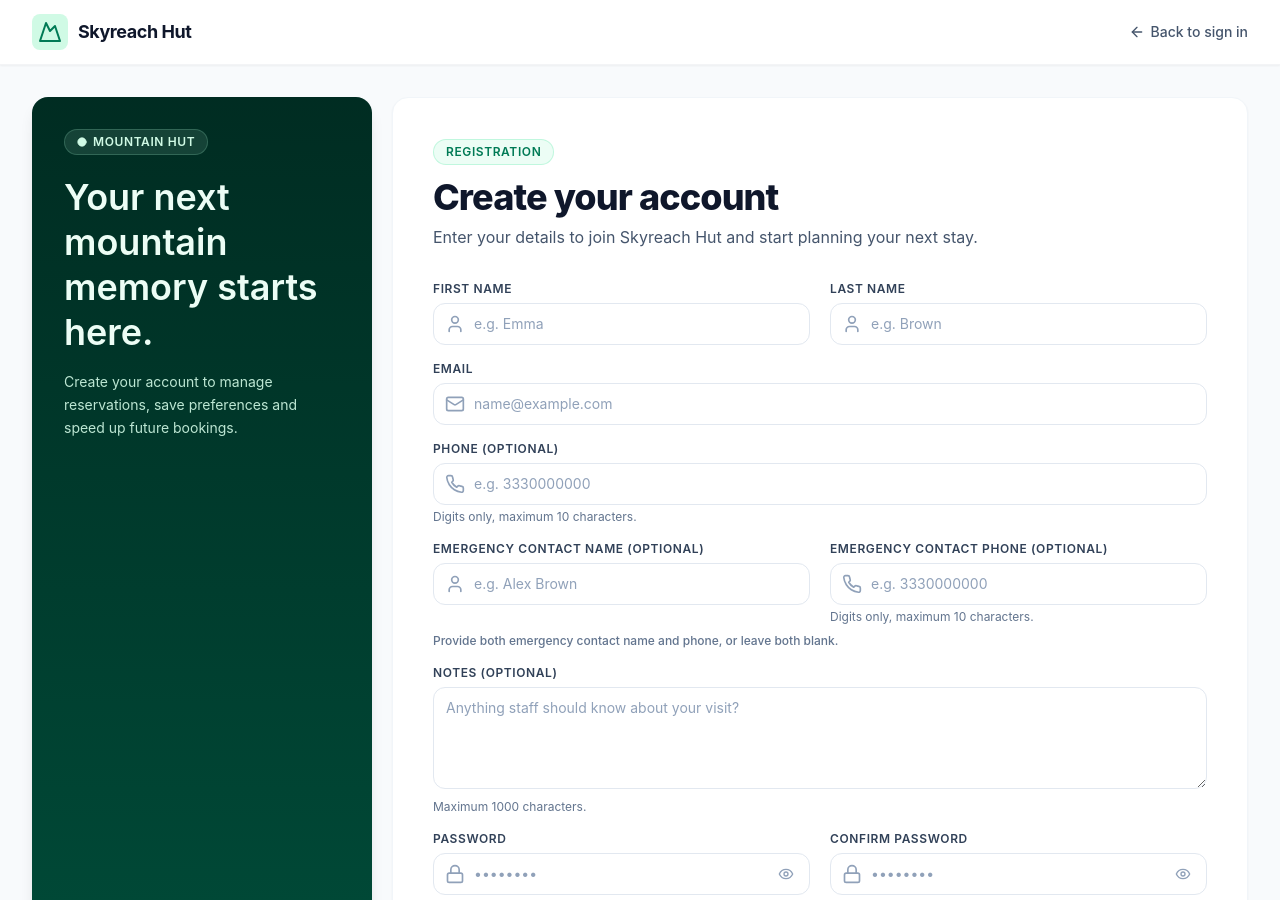
it: RegisterPage › explains that the email is already registered on a 409
Type "Anna" into the field labelled "First name". click: (622, 324)
box: [433,303,810,345]
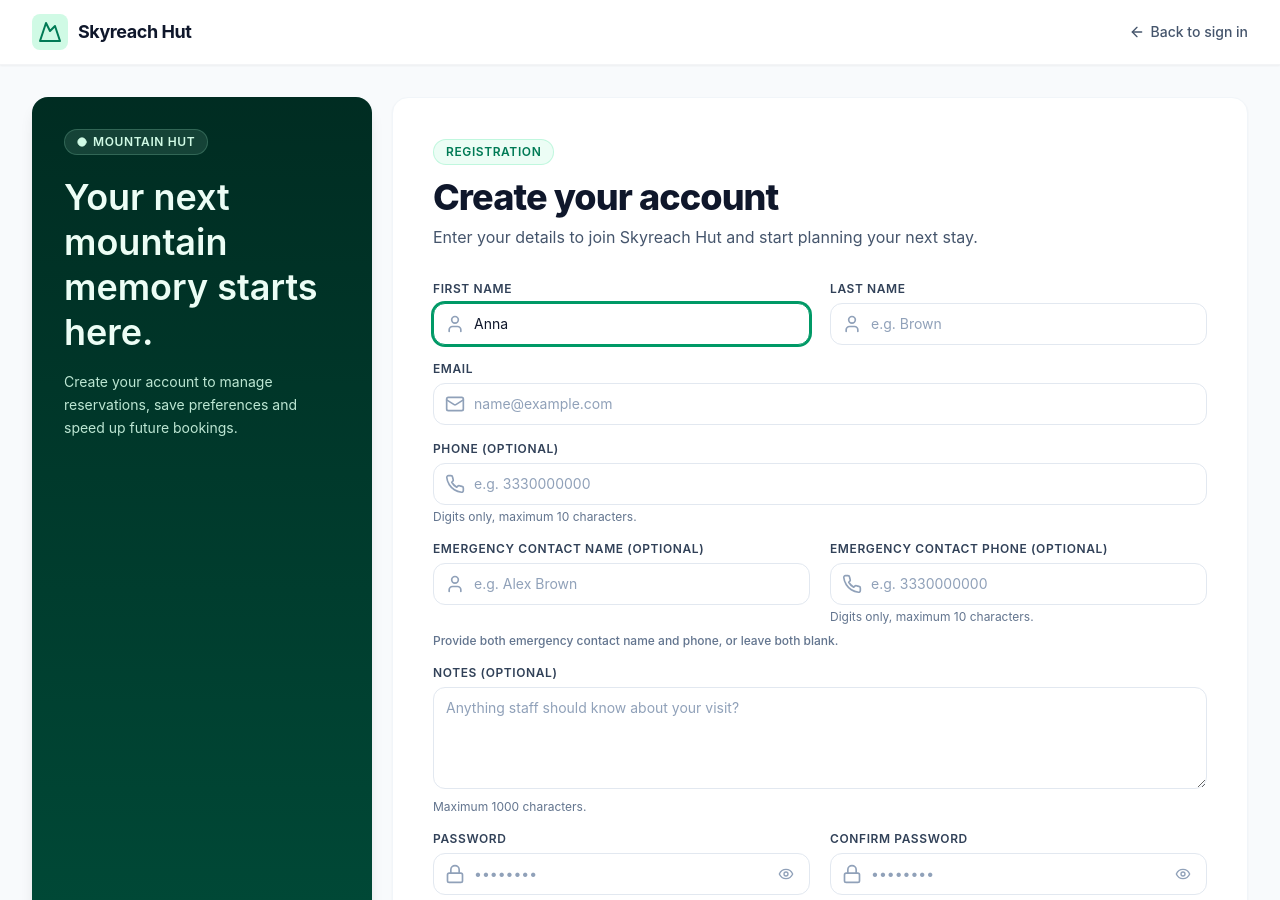
Type "Neri" into the field labelled "Last name". click: (1018, 324)
box: [830,303,1207,345]
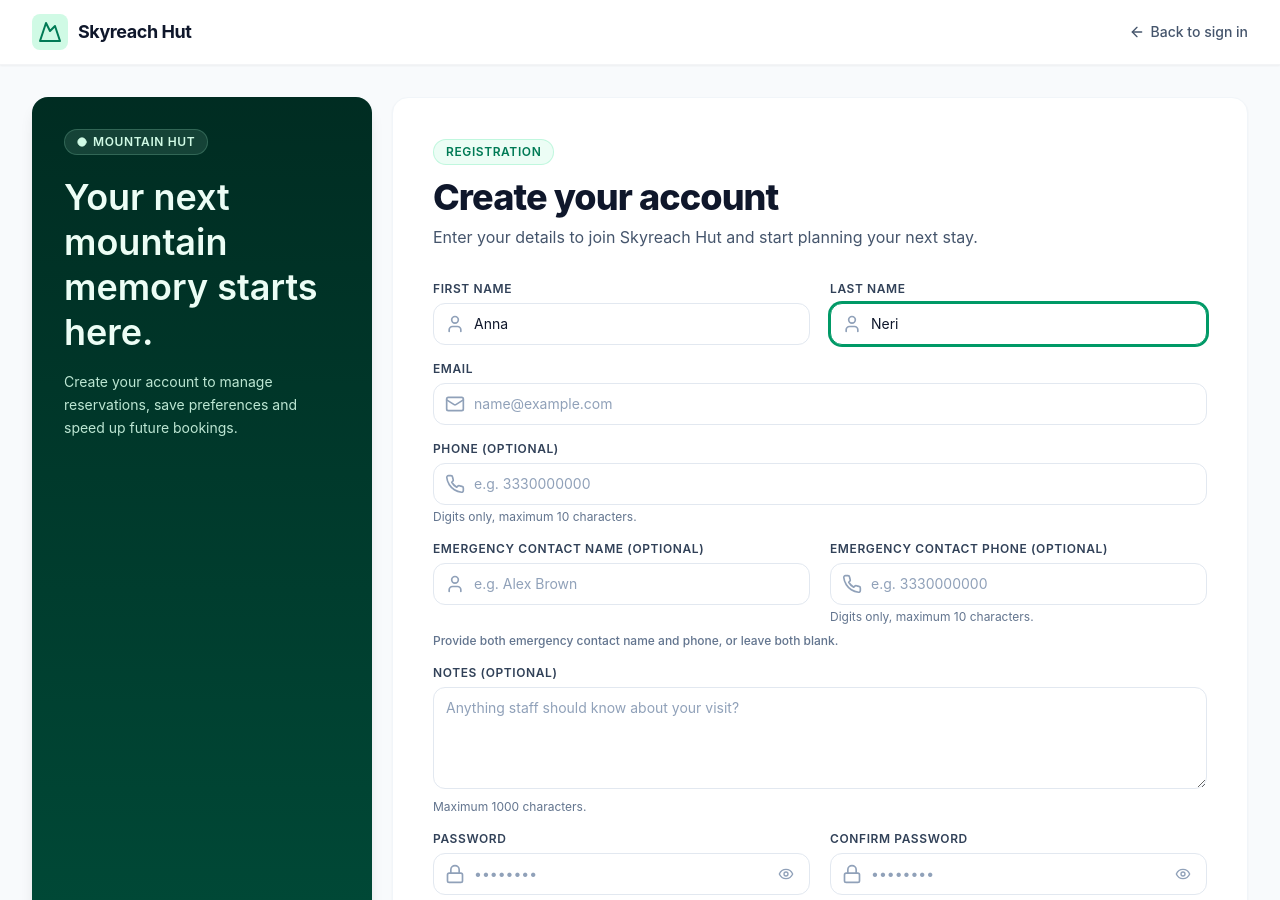
Type "anna@example.com" into the field labelled "Email". click: (820, 404)
box: [433,383,1207,425]
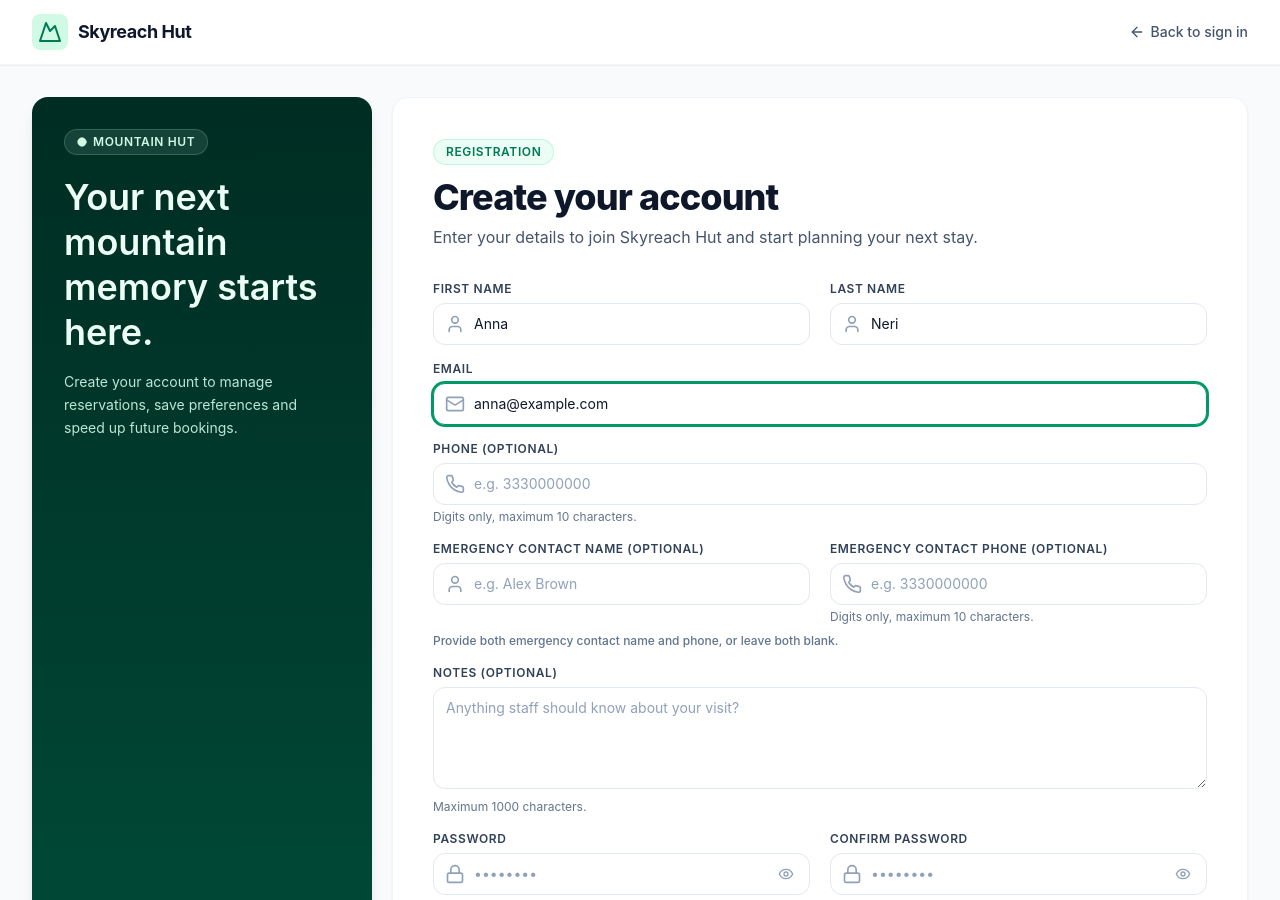
Type "Hiker123" into the password field labelled "Password". click: (622, 874)
box: [433,853,810,895]
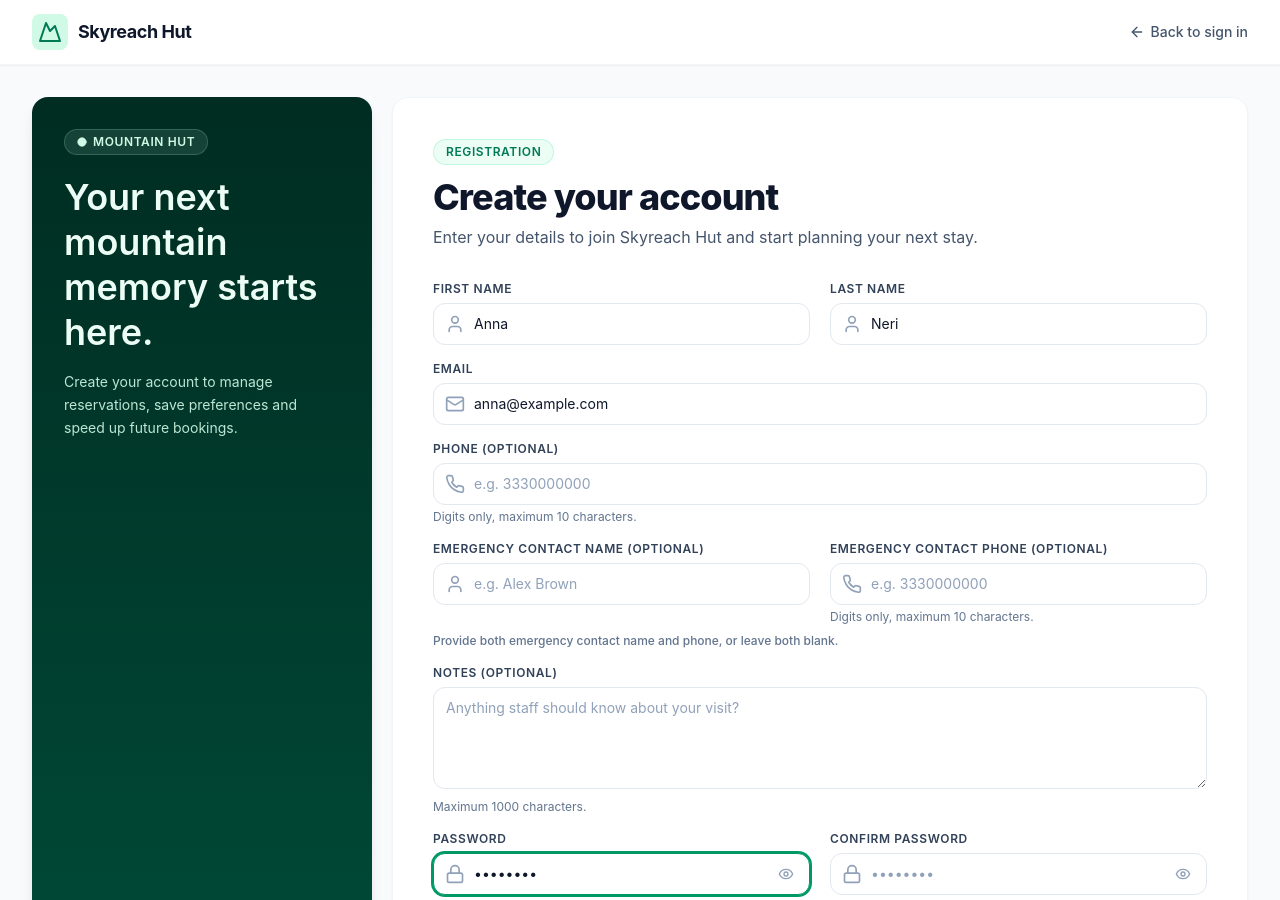
Type "Hiker123" into the password field labelled "Confirm password". click: (1018, 874)
box: [830,853,1207,895]
(page scrolled)
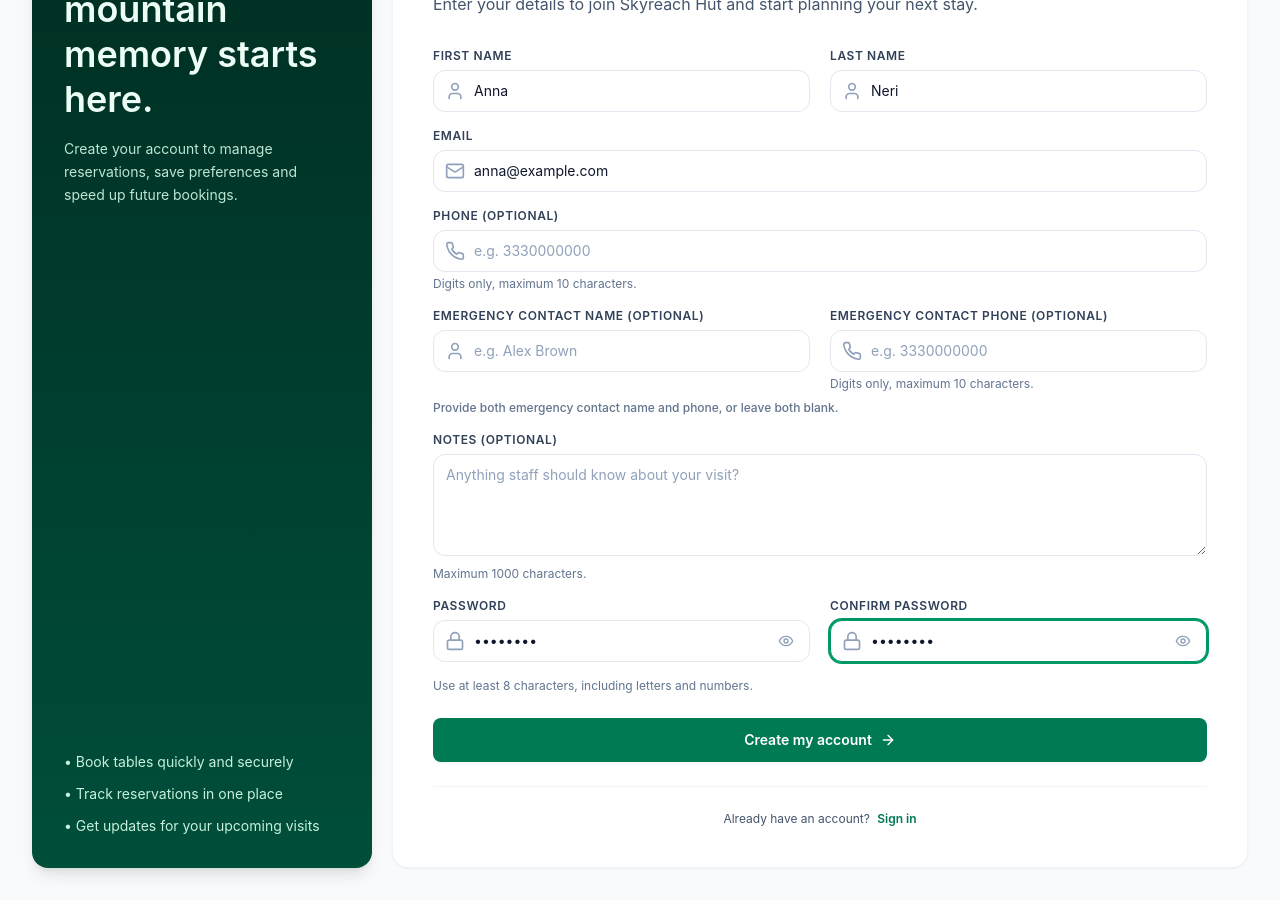
Click the button "Create my account". click: click(820, 740)
box: [433,718,1207,762]
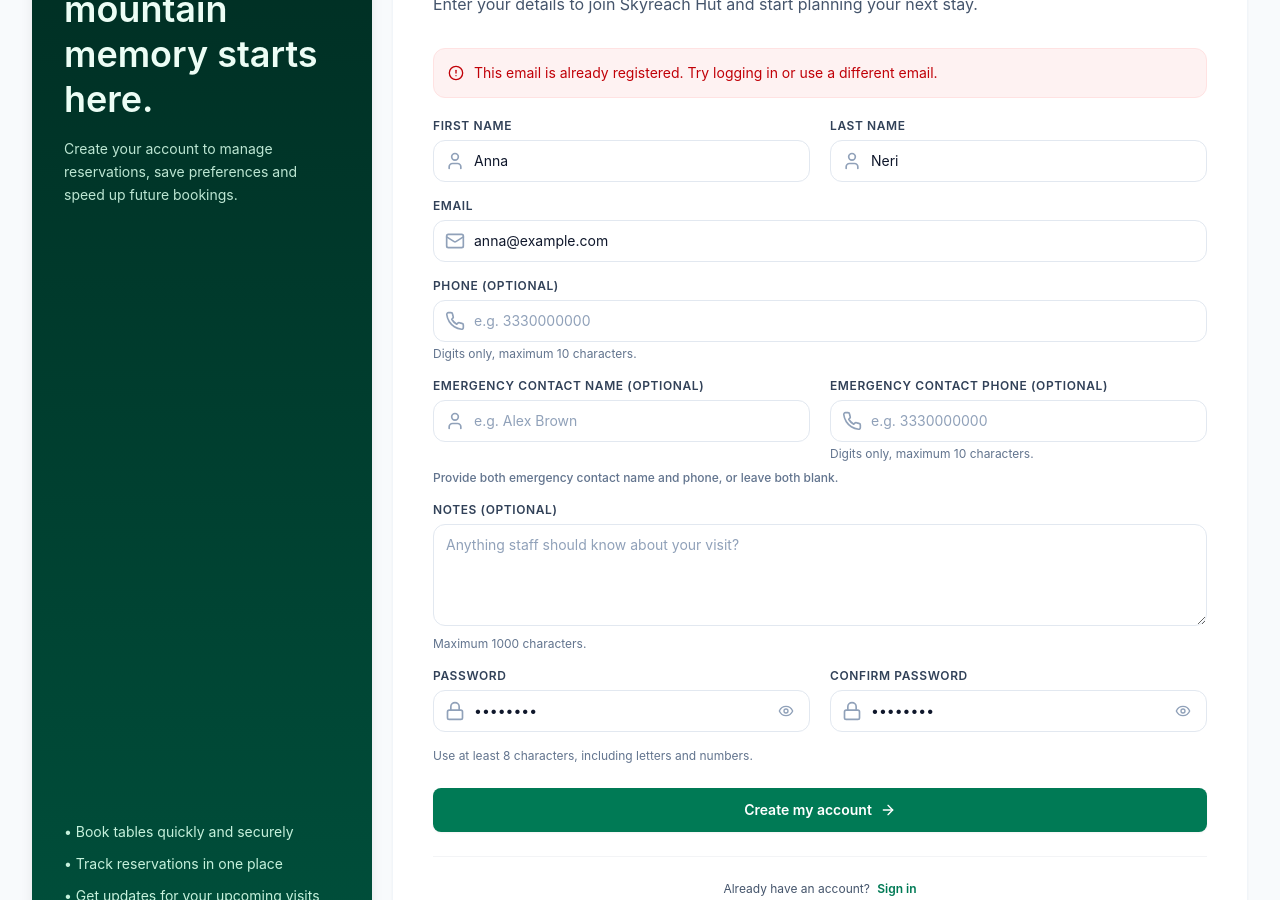
Expected: the text "This email is already registered. Try logging in or use a different email." is shown, [474,63,938,83]
